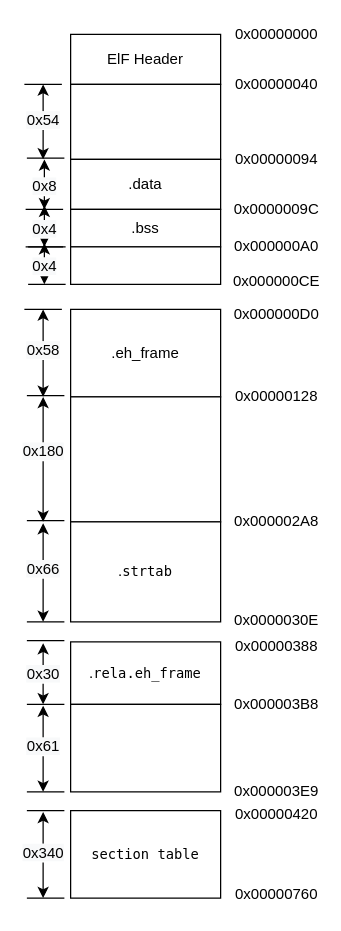
This 341x931 diagram has some shape labels left out. Each missing label, with the centre of its shape:
. comment: (145,265)
.shstrtab: (145,747)
.syntab: (145,459)
.text: (145,121)
